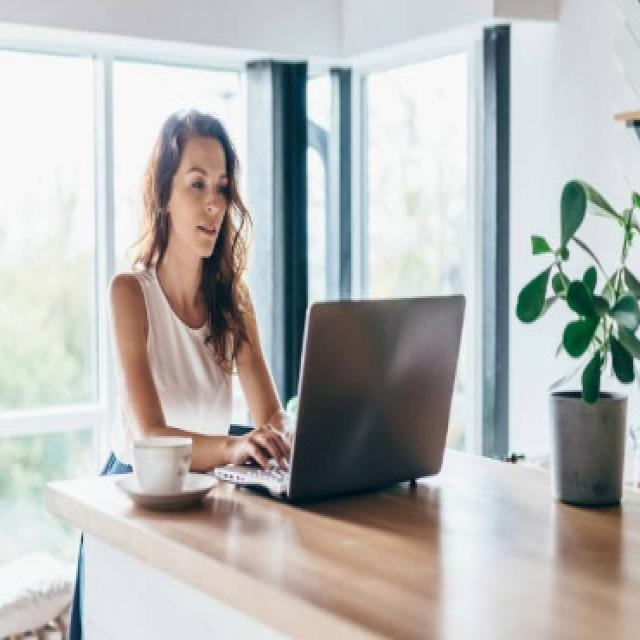adult: (91, 107, 289, 476)
